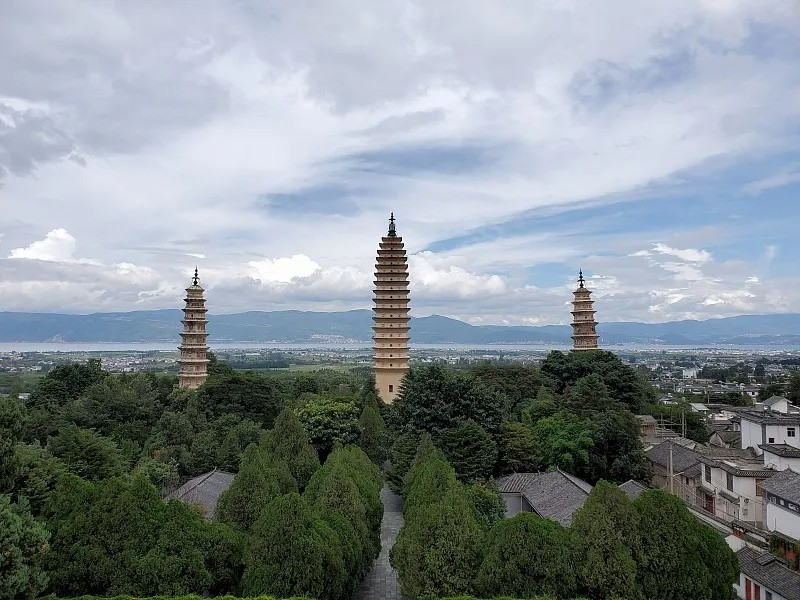ThreePagoda: (372, 211, 411, 404)
